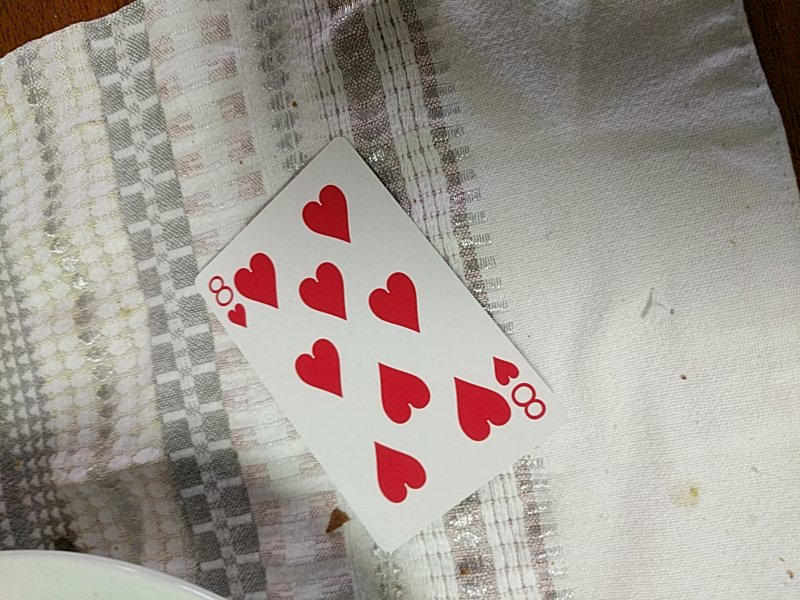Hearts: (190, 134, 562, 561)
